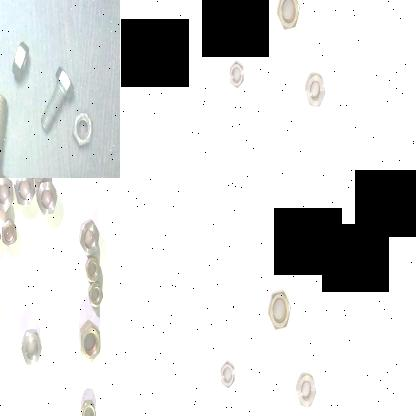Bolts: (33, 63, 75, 133), (0, 90, 10, 178)
NUTS: (70, 96, 96, 154), (268, 286, 294, 333), (76, 320, 102, 366), (302, 68, 327, 110), (293, 368, 318, 410), (7, 38, 30, 82), (35, 179, 61, 215), (78, 219, 102, 257), (21, 327, 43, 367), (276, 0, 302, 33), (84, 276, 106, 310), (11, 178, 35, 207), (1, 214, 20, 250), (228, 58, 246, 90), (219, 358, 237, 390), (84, 255, 102, 283), (0, 178, 15, 211), (80, 396, 99, 416)
